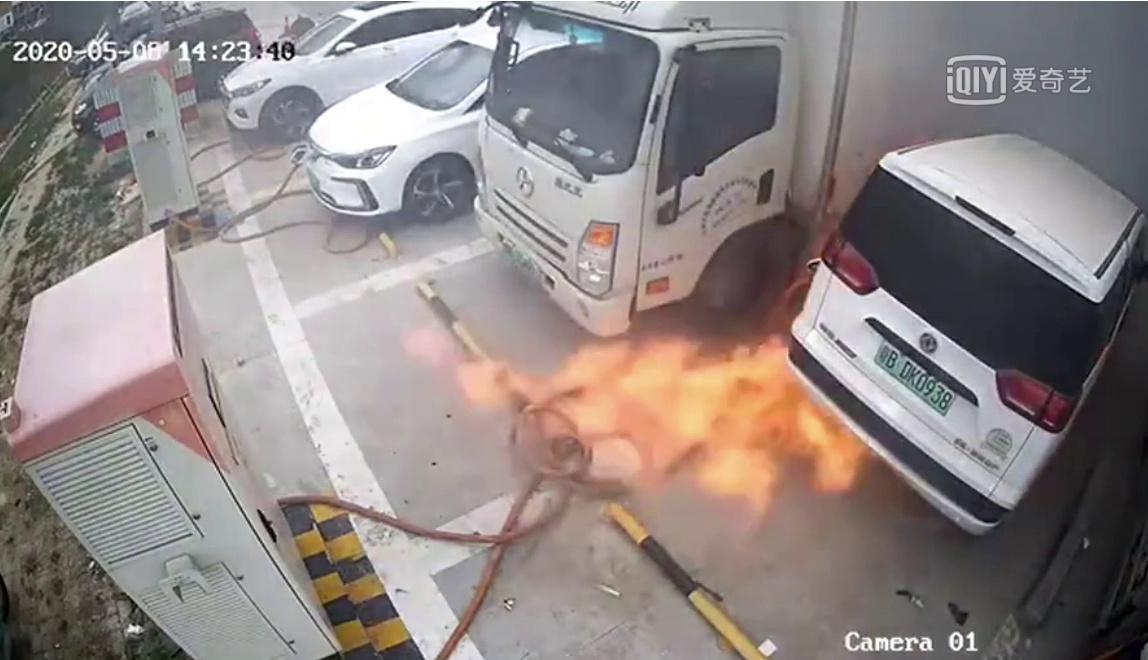fire: (463, 312, 852, 500)
